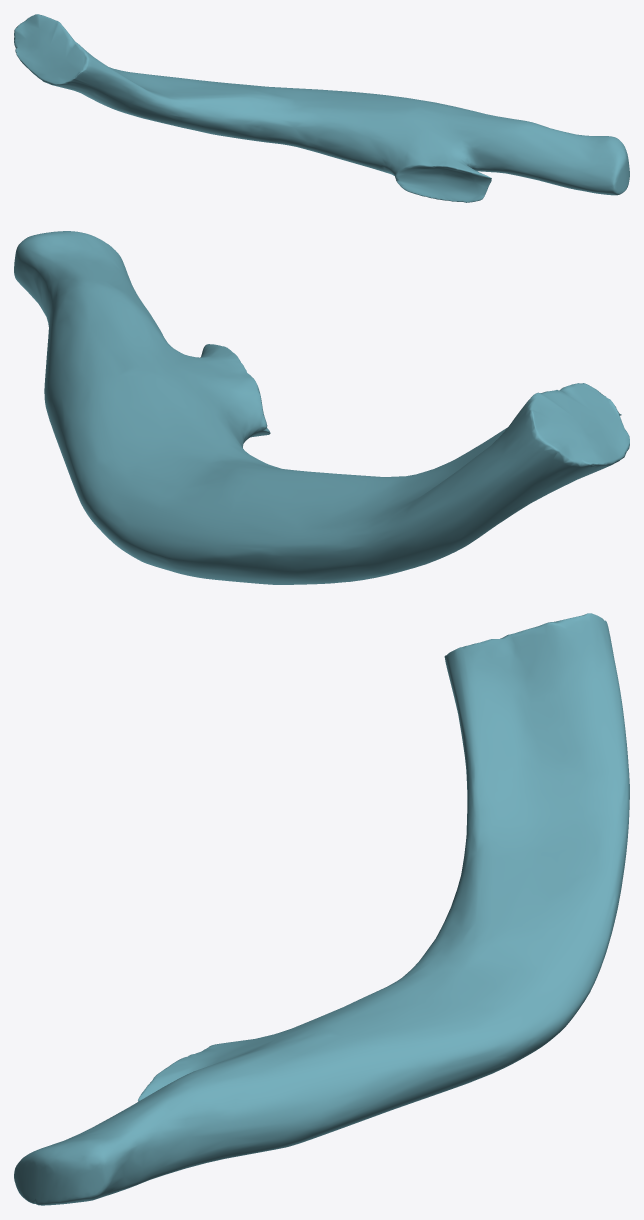
The picture shows the model from 3 angles, top to bottom: view 1: azimuth 30°, elevation 25°; view 2: azimuth 150°, elevation 25°; view 3: azimuth 270°, elevation 25°; orthographic projection. The views are drawn at different scales.
Parts seen in each view (by area): view 1: 右侧第七肋软骨; view 2: 右侧第七肋软骨; view 3: 右侧第七肋软骨.
Part boxes in pixels (<box>): 右侧第七肋软骨: <box>14,14,629,202</box>; 右侧第七肋软骨: <box>14,231,629,584</box>; 右侧第七肋软骨: <box>14,613,629,1205</box>.
Bounding box in the file's own units: 0.1592 × 0.054 × 0.1112.
